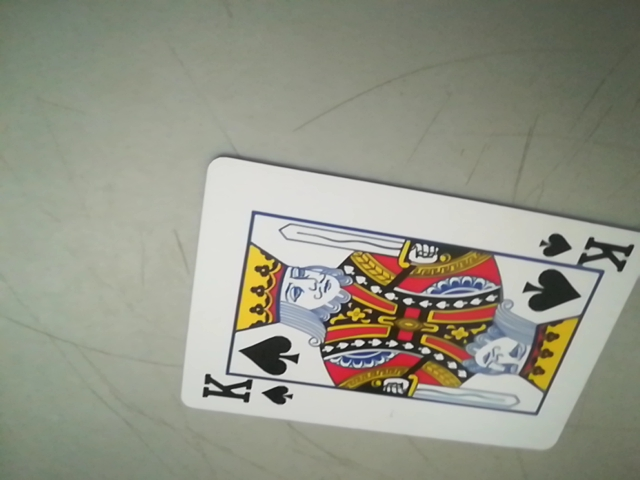ht k: (529, 226, 638, 272), (194, 374, 303, 411)
